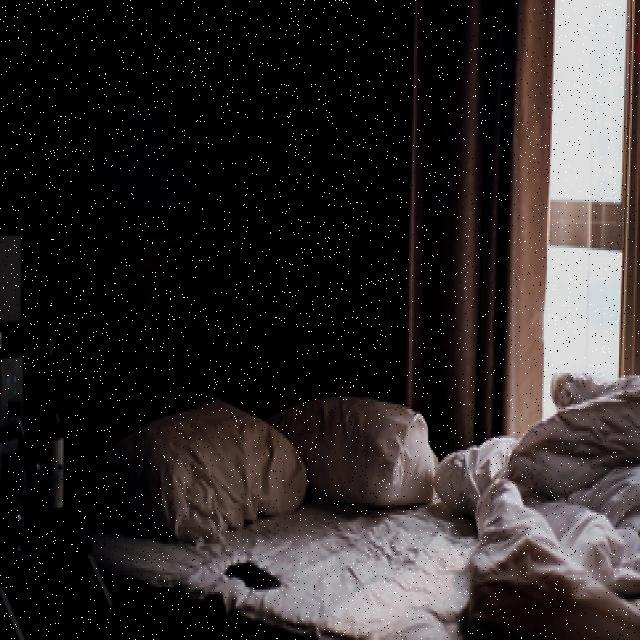bed: (66, 377, 640, 640)
